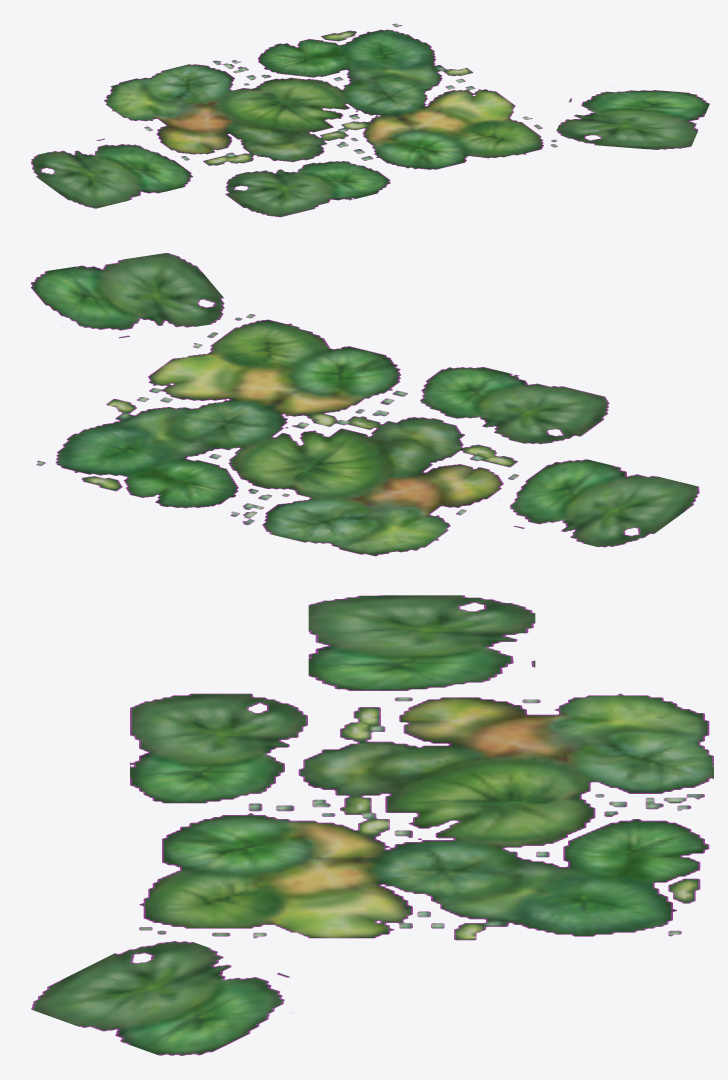
File: n_duckweed02.glb
The picture shows the model from 3 angles, top to bottom: view 1: azimuth 30°, elevation 25°; view 2: azimuth 150°, elevation 25°; view 3: azimuth 270°, elevation 25°; orthographic projection. The views are drawn at different scales.
Parts seen in each view (by area): view 1: n_duckweed02; view 2: n_duckweed02; view 3: n_duckweed02.
Boxes of the visible parts, left/top/right/bottom form: n_duckweed02: left=31, top=23, right=709, bottom=217; n_duckweed02: left=30, top=252, right=699, bottom=556; n_duckweed02: left=31, top=595, right=713, bottom=1055.
Bounding box in the file's own units: 11.39 × 0 × 7.17.
1 material, 1 textured.
